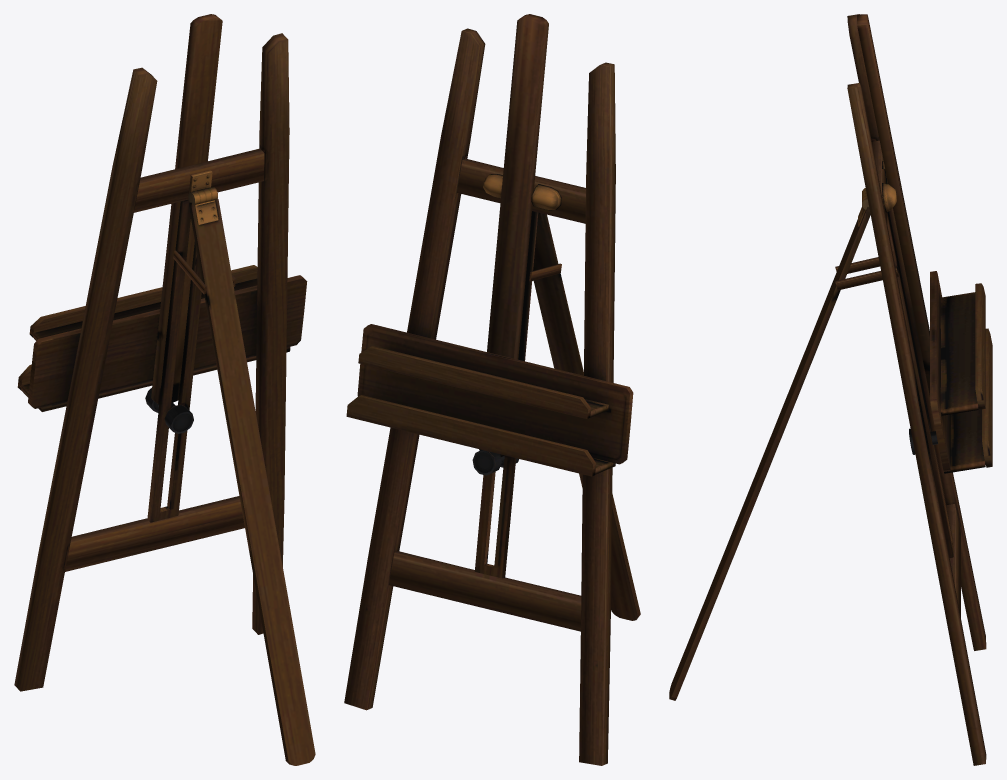
File: easel.obj
3 views of the same model, side by side, from view 1: azimuth 30°, elevation 25°; view 2: azimuth 150°, elevation 25°; view 3: azimuth 270°, elevation 25° (orthographic).
Visible parts, largest first — view 1: easel; view 2: easel; view 3: easel.
Part boxes in pixels (x1=…): easel: x1=14, y1=14, x2=315, y2=765; easel: x1=344, y1=14, x2=640, y2=765; easel: x1=669, y1=14, x2=992, y2=765.
Size of the model in its own units: 89 by 216 by 92.03.
1 material, 1 textured.
